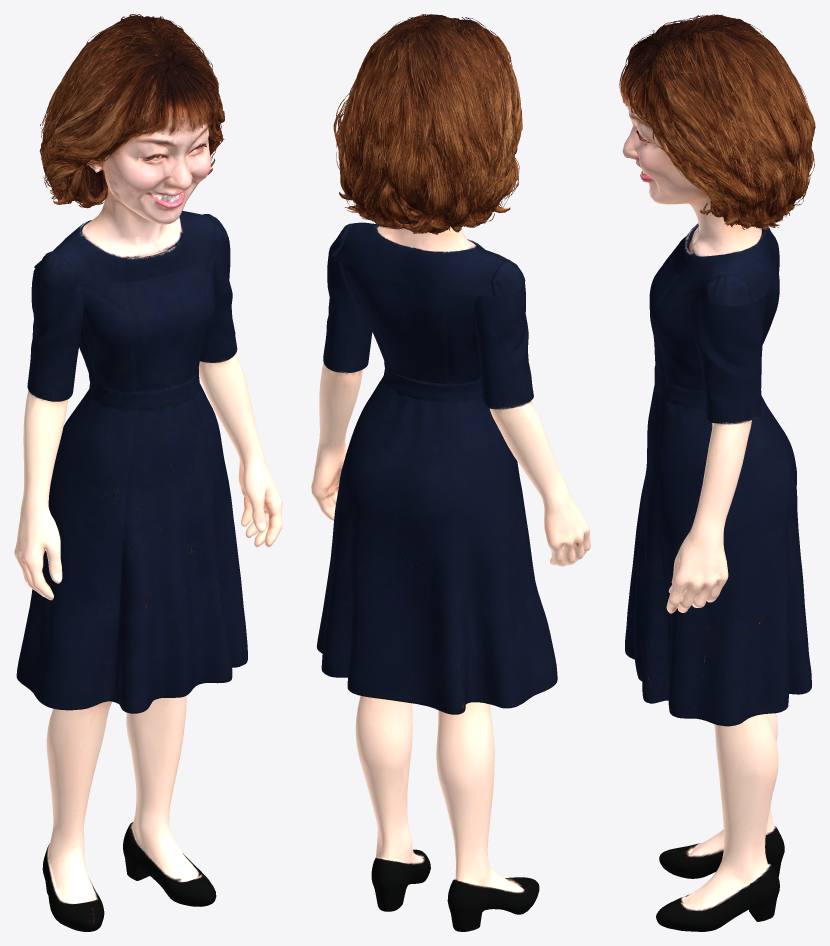
The model's file is yun-hyojin.glb.
3 renders of one model, left to right at view 1: azimuth 30°, elevation 25°; view 2: azimuth 150°, elevation 25°; view 3: azimuth 270°, elevation 25°, orthographic.
Size of the model in its own units: 0.5969 by 1.9 by 0.381.
Materials: 2 (2 with a texture image).
